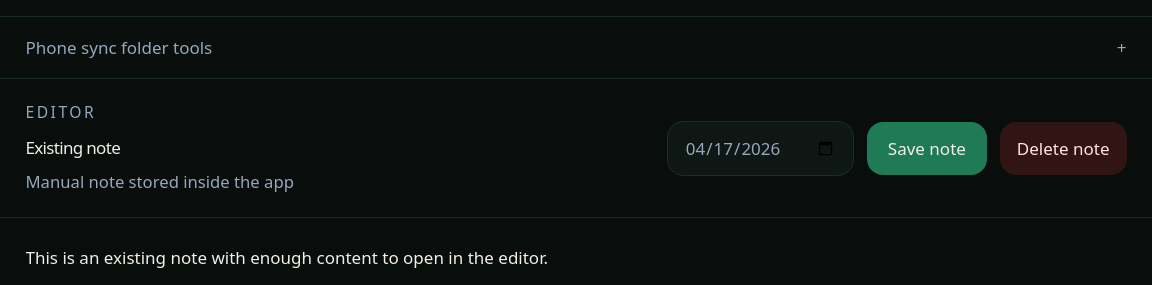
Scenario: NotesWorkspace › deletes the selected note and returns to a blank draft
(page scrolled)
expect the field showing "Existing note" is shown: met, box [26,134,650,161]
Step 1. Click the button "Delete note" → {"x": 1063, "y": 148}, box [1000,122,1126,174]
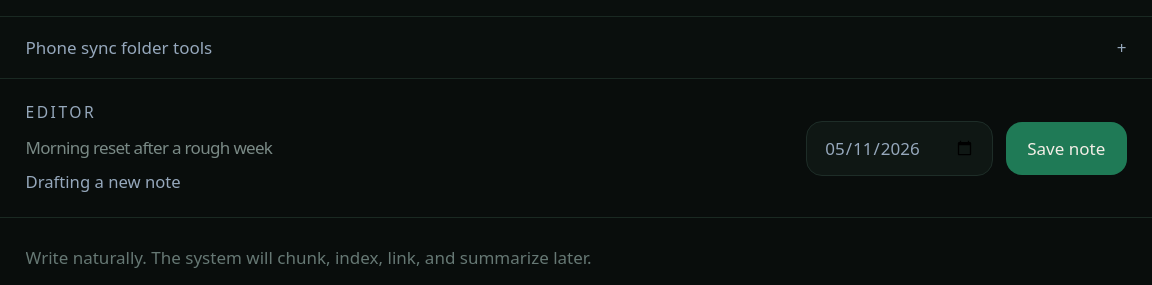
expect the text "Drafting a new note" is shown: met, box [26,170,181,194]
